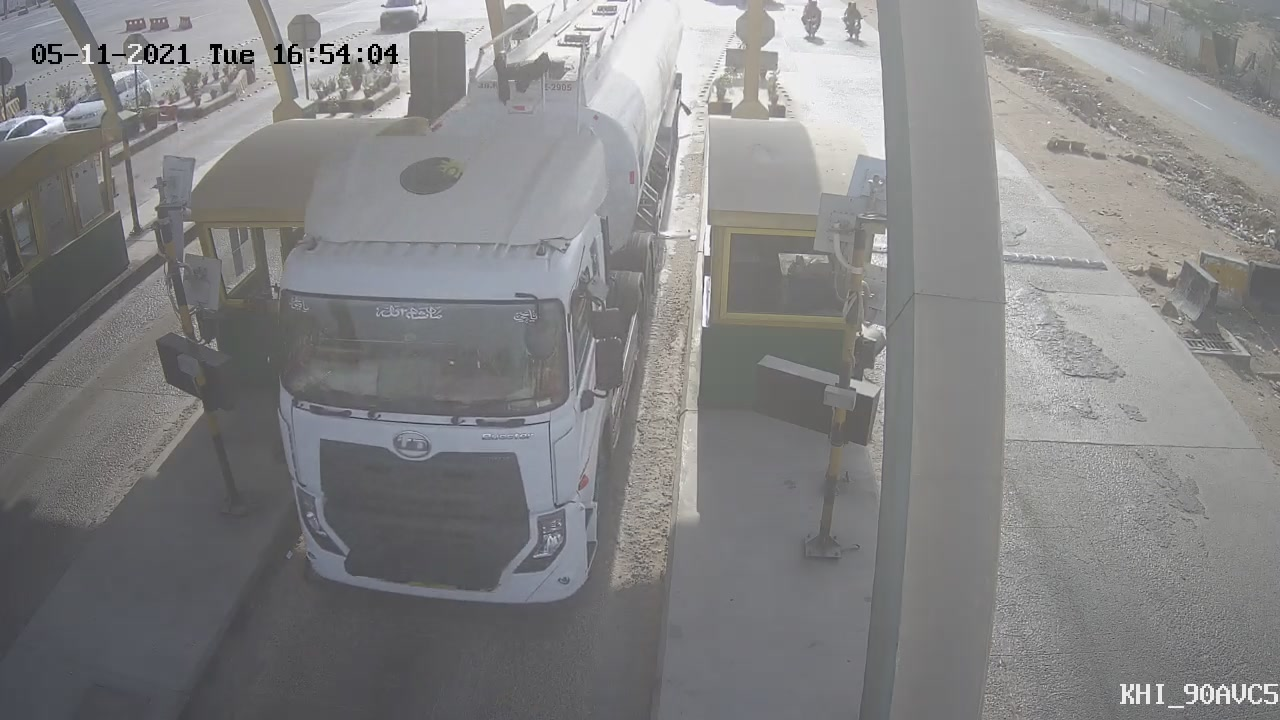F6: (225, 3, 707, 624)
